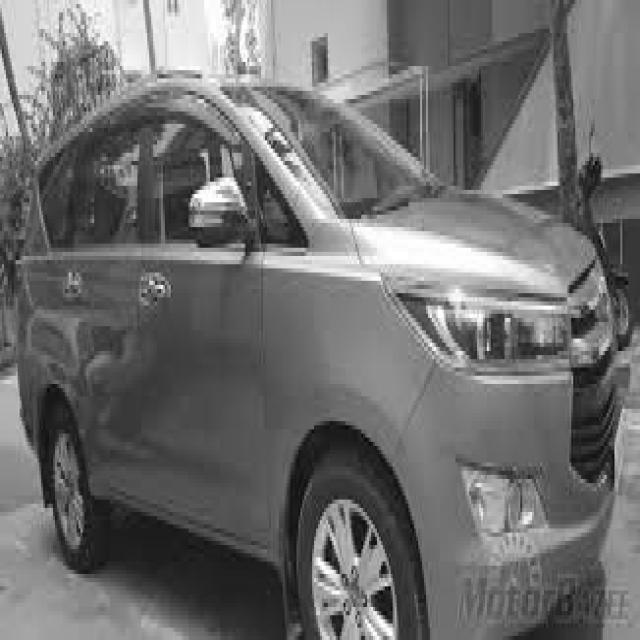Car: (21, 81, 620, 635)
